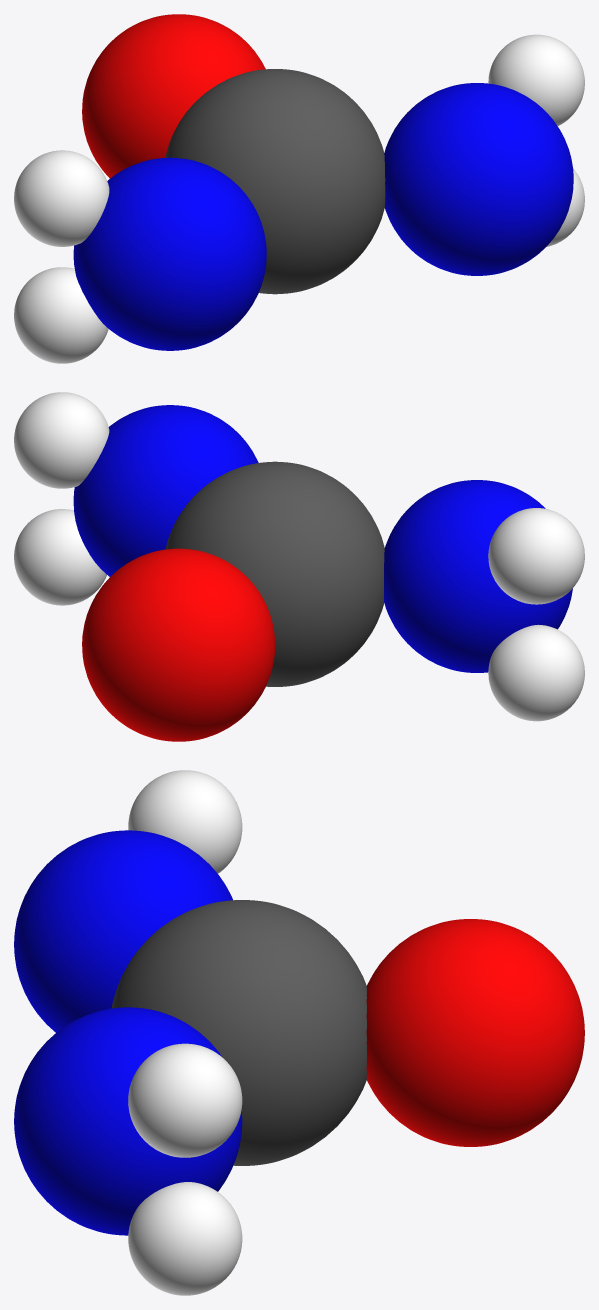
File: (NH2)2CO_Urea.glb
The picture shows the model from 3 angles, top to bottom: view 1: azimuth 30°, elevation 25°; view 2: azimuth 150°, elevation 25°; view 3: azimuth 270°, elevation 25°; orthographic projection. The views are drawn at different scales.
Parts seen in each view (by area): view 1: C, N_R, N_L, O, H1_L, H2_L, H1_R, H2_R; view 2: O, C, N_L, N_R, H1_L, H2_L, H1_R, H2_R; view 3: C, O, N_R, N_L, H1_R, H2_R, H1_L.
Part boxes in pixels (x1,y1,x2,y2): C: (165, 69, 385, 294); N_R: (384, 83, 573, 275); N_L: (73, 157, 266, 350); O: (82, 14, 265, 178); H1_L: (14, 150, 109, 246); H2_L: (14, 267, 108, 363); H1_R: (488, 34, 584, 125); H2_R: (546, 168, 584, 246); O: (82, 548, 275, 741); C: (165, 461, 384, 686); N_L: (384, 480, 572, 672); N_R: (73, 405, 258, 576); H1_L: (488, 508, 584, 604); H2_L: (488, 624, 584, 721); H1_R: (14, 392, 109, 488); H2_R: (14, 509, 106, 605); C: (111, 900, 366, 1165); O: (366, 919, 584, 1146); N_R: (14, 1007, 242, 1235); N_L: (14, 830, 232, 1032); H1_R: (128, 1043, 242, 1157); H2_R: (128, 1182, 242, 1295); H1_L: (128, 770, 242, 873).
Size of the model in its own units: 4 by 1.4 by 3.
